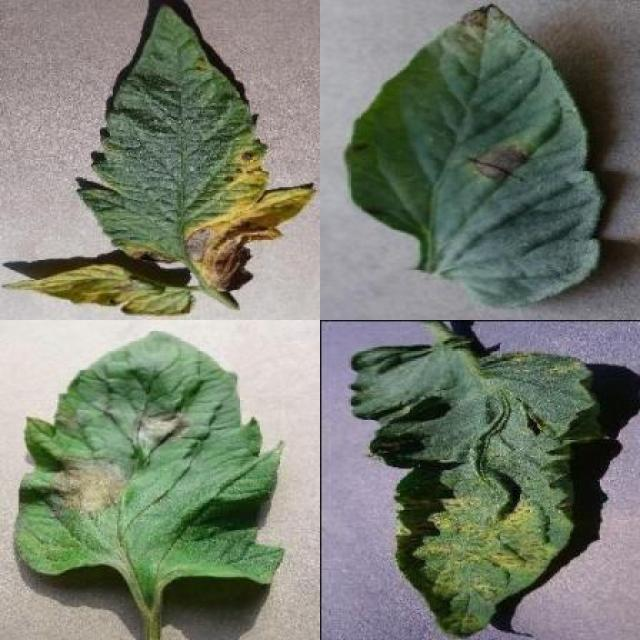Early Blight: (345, 5, 601, 308), (75, 1, 315, 286)
Late Blight: (11, 327, 286, 587)
Septoria: (344, 344, 595, 639)
